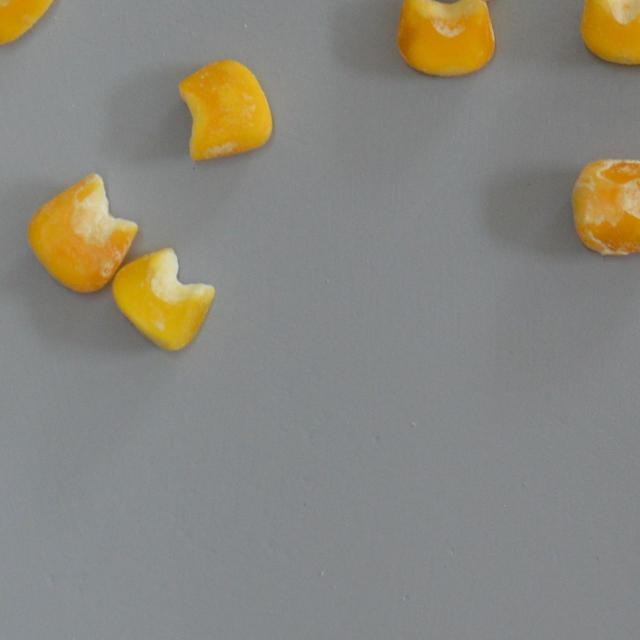dañado: (0, 0, 58, 46)
no_canjicado: (112, 245, 216, 352)
pelicula: (26, 172, 138, 294), (176, 56, 272, 161), (395, 0, 495, 78), (569, 158, 640, 258), (579, 0, 640, 67)
